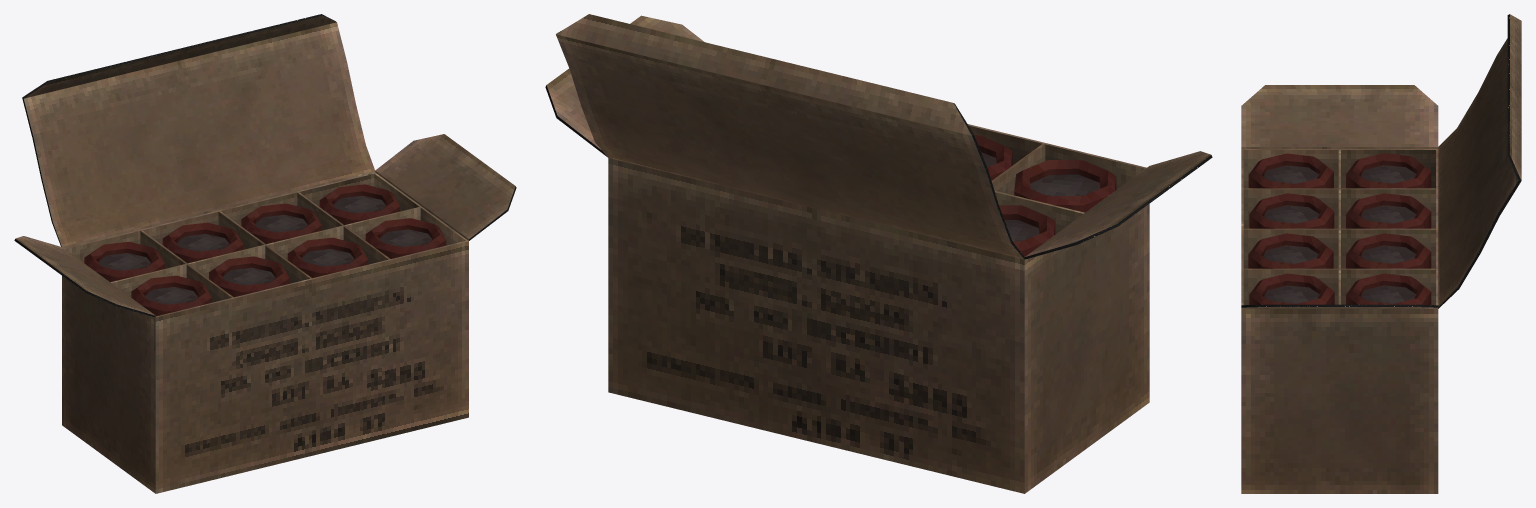
The model's file is shotgun_ammo_2_1.glb.
3 renders of one model, left to right at view 1: azimuth 30°, elevation 25°; view 2: azimuth 150°, elevation 25°; view 3: azimuth 270°, elevation 25°, orthographic. The views are drawn at different scales.
Visible parts, largest first — view 1: shotgun_ammo_2_1; view 2: shotgun_ammo_2_1; view 3: shotgun_ammo_2_1.
Part boxes in pixels (bbox=[...]): shotgun_ammo_2_1: bbox=[14, 14, 516, 493]; shotgun_ammo_2_1: bbox=[545, 14, 1212, 493]; shotgun_ammo_2_1: bbox=[1241, 14, 1521, 493].
Size of the model in its own units: 0.1979 by 0.138 by 0.1063.
Materials: 1 (1 with a texture image).
